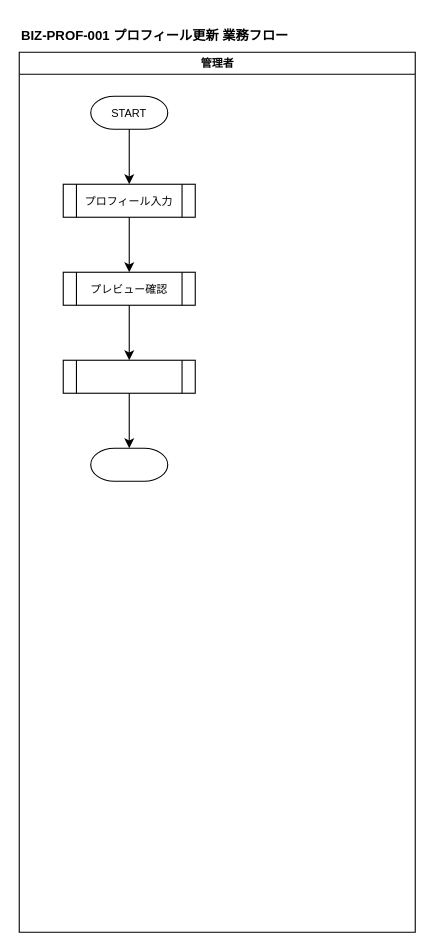
Image size: 435x952. Some labels were removed from this diagram. Each missing label, with the centre of its shape:
"END" belongs at pixel 129 464.
"プロフィール更新" belongs at pixel 128 376.
